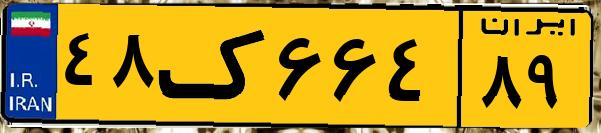4: (385, 28, 445, 110), (57, 26, 110, 100)
6: (270, 28, 330, 110), (330, 28, 385, 110)
8: (475, 38, 525, 113), (110, 28, 158, 98)
9: (525, 38, 570, 115)
ک: (158, 12, 270, 120)
